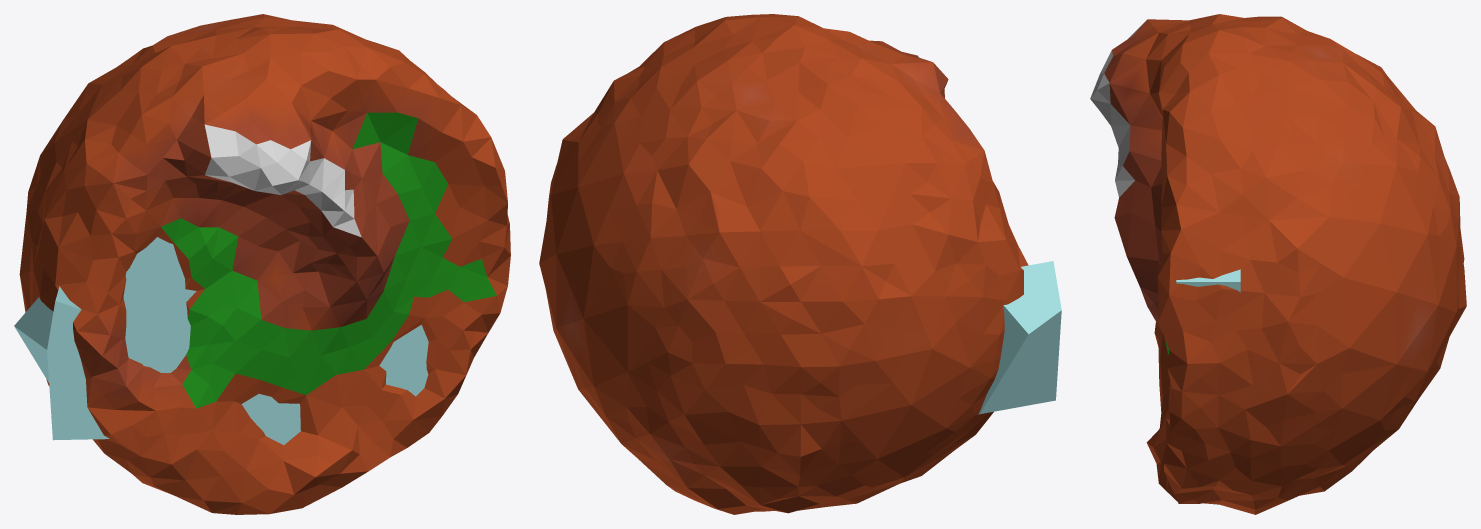
The model's file is island.gltf.
3 renders of one model, left to right at view 1: azimuth 30°, elevation 25°; view 2: azimuth 150°, elevation 25°; view 3: azimuth 270°, elevation 25°, orthographic. The views are drawn at different scales.
Parts seen in each view (by area): view 1: Icosphere, Plane; view 2: Icosphere, Plane; view 3: Icosphere, Plane.
Part boxes in pixels (x1,y1,x2,y2): Icosphere: [19, 14, 510, 514]; Plane: [14, 237, 428, 445]; Icosphere: [539, 14, 1028, 514]; Plane: [978, 261, 1061, 414]; Icosphere: [1090, 14, 1466, 514]; Plane: [1176, 269, 1240, 292].
Bounding box in the file's own units: 16.25 × 15.38 × 11.58.
